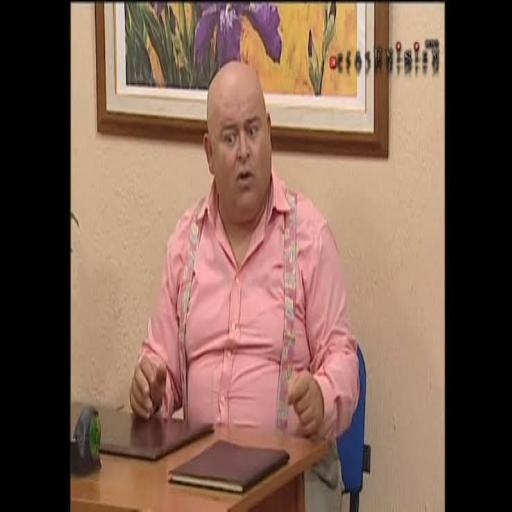sboui: (203, 62, 271, 223)
